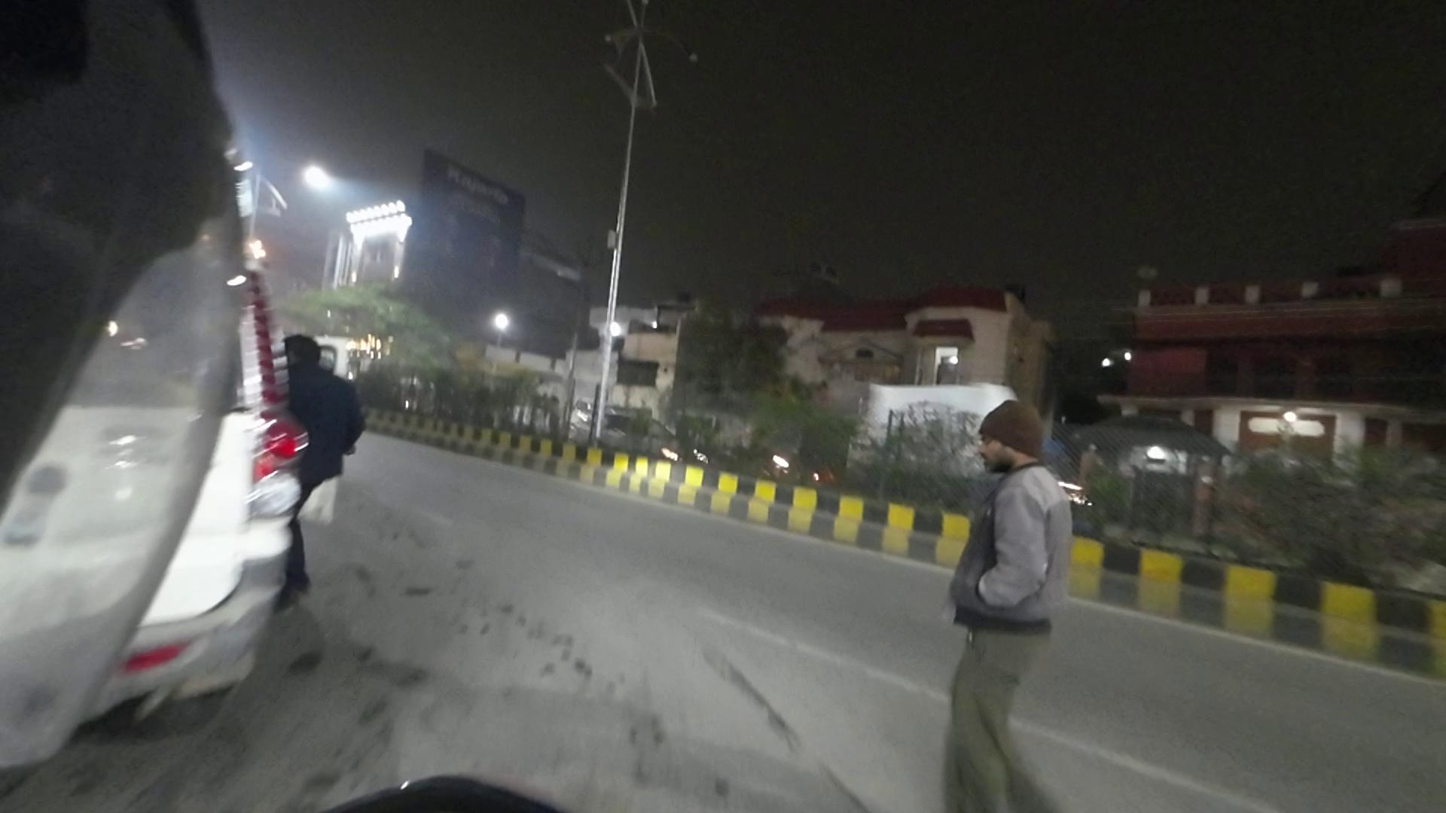streetlight: (661, 33, 703, 65)
